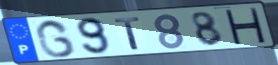8: (152, 13, 187, 50), (190, 11, 225, 47)
9: (74, 16, 113, 57)
G: (33, 18, 77, 59)
H: (222, 7, 268, 45)
T: (113, 16, 144, 51)
